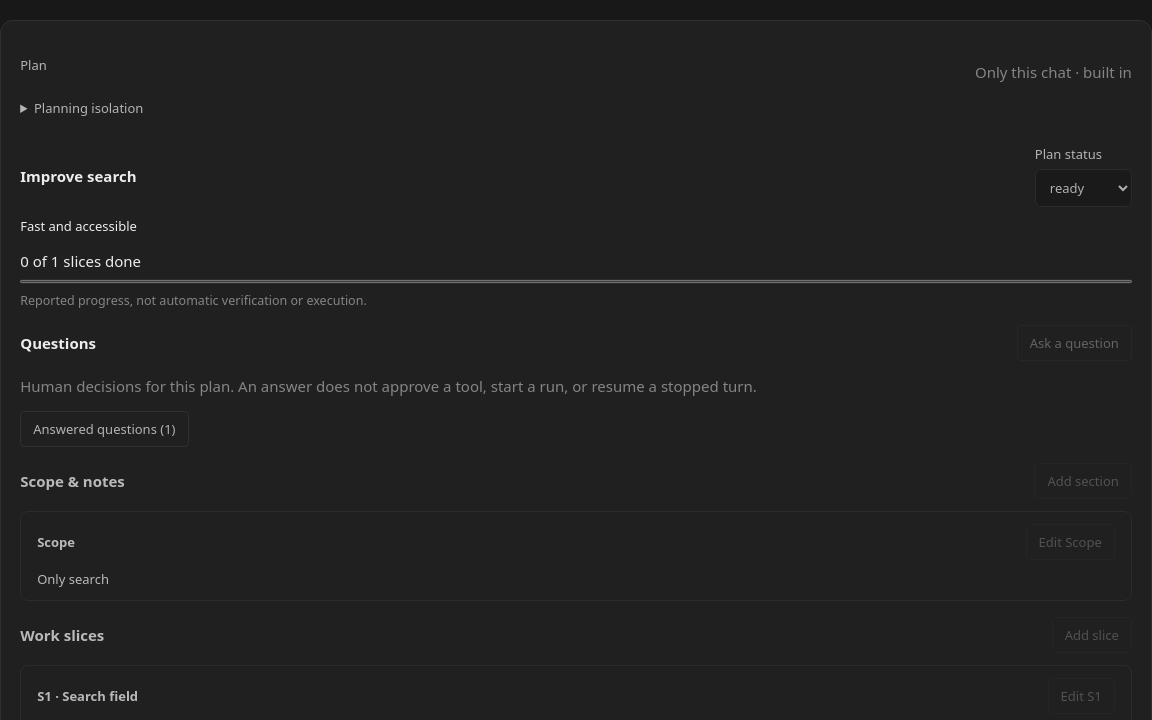
Test case: chat-owned planning › keeps answered history readable when the chat is archived
Click the button "Answered questions (1)". click: (104, 429)
box: [20,411,188,447]
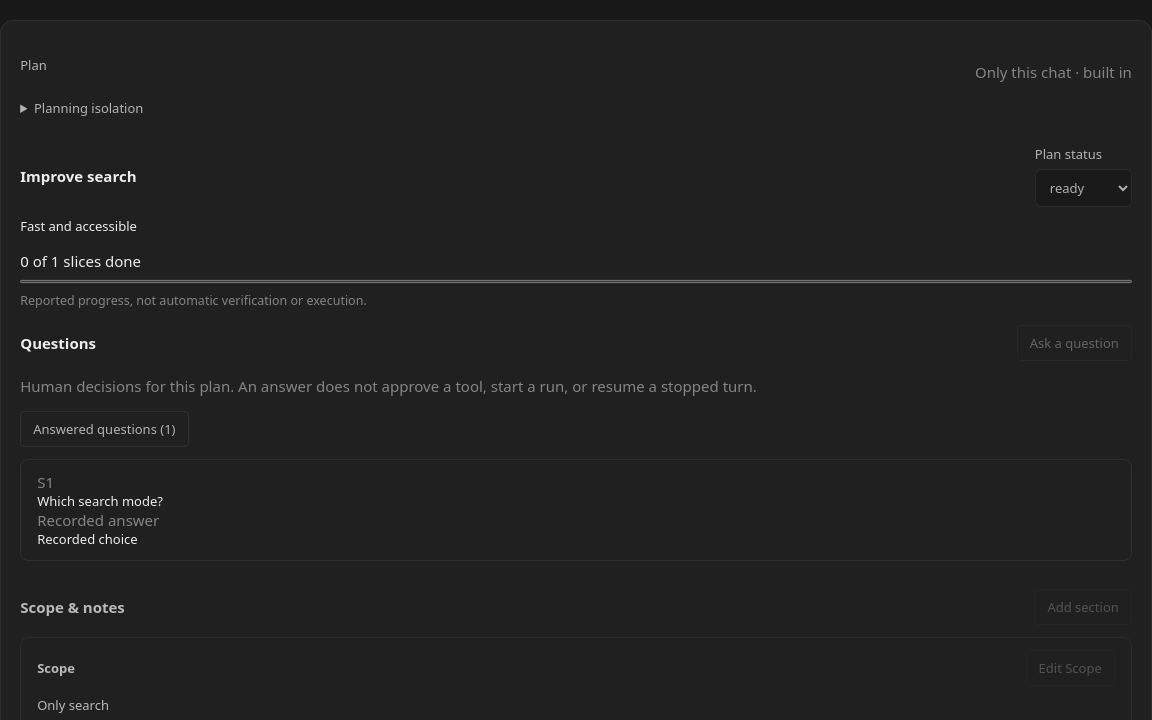
Now the text "Recorded choice" is shown, box [37,530,138,548]
